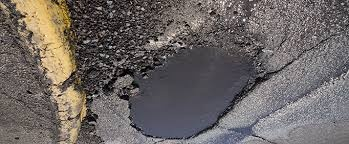pothole: (112, 34, 270, 143)
